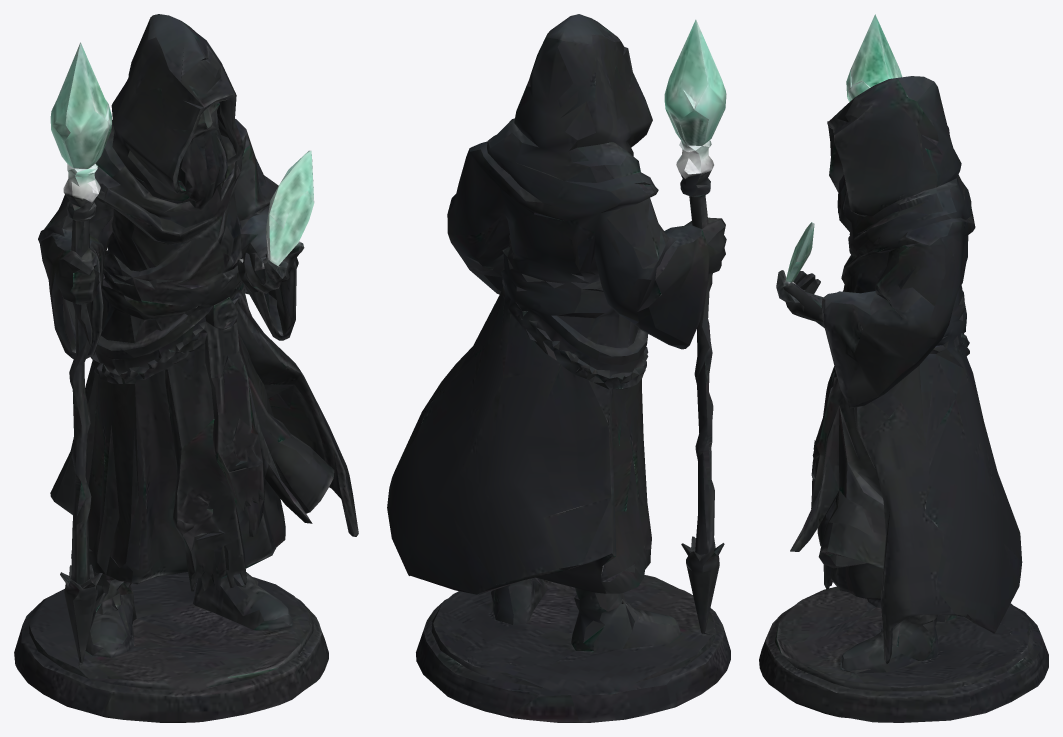
File: hero_mystic.glb
The picture shows the model from 3 angles, left to right: view 1: azimuth 30°, elevation 25°; view 2: azimuth 150°, elevation 25°; view 3: azimuth 270°, elevation 25°; orthographic projection. The views are drawn at different scales.
Size of the model in its own units: 0.9541 by 1.9 by 0.8293.
Materials: 1 (1 with a texture image).
